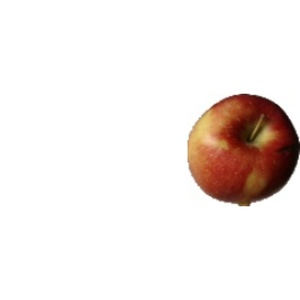maçã braeburn: (185, 91, 299, 206)
